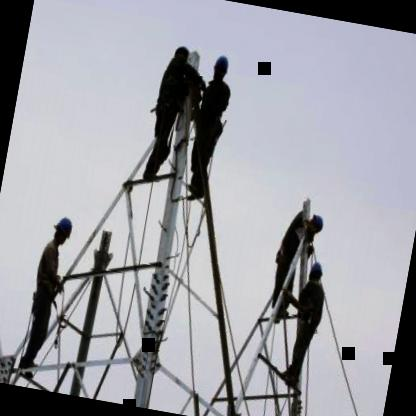helmet: (49, 212, 76, 248), (212, 48, 232, 82), (303, 210, 325, 236), (306, 259, 324, 287)
